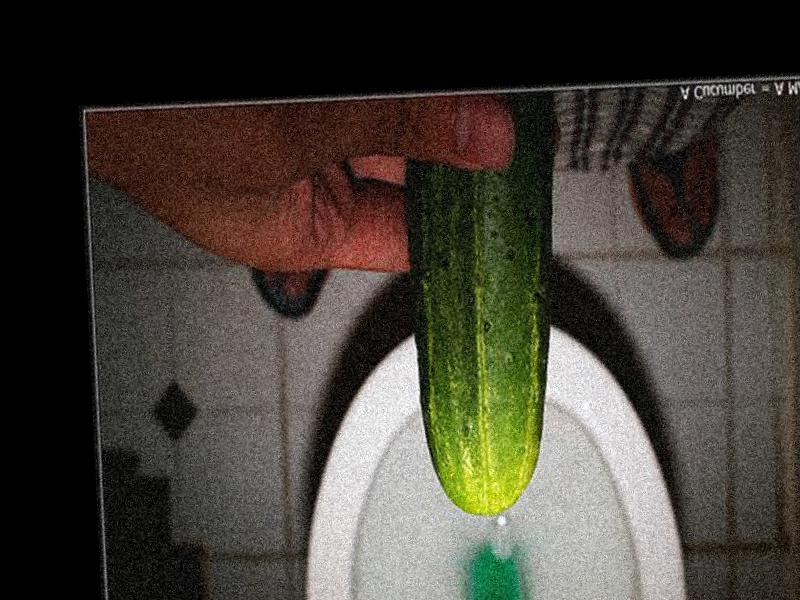Cucumber: (403, 83, 571, 517)
